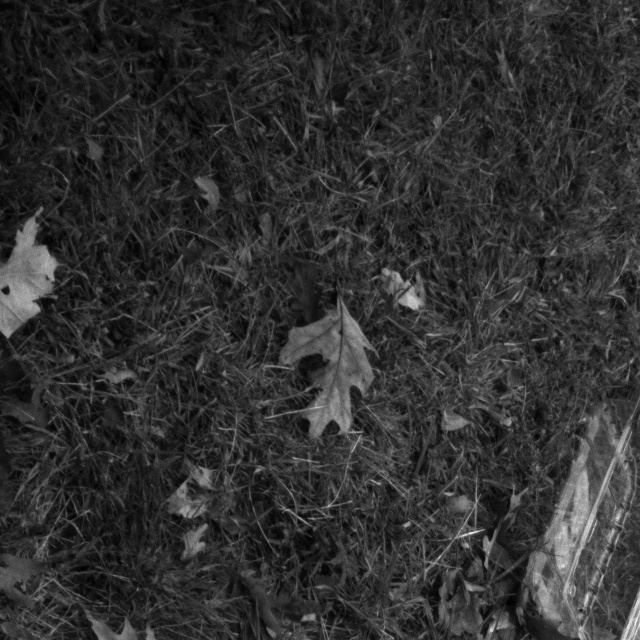container: (493, 394, 640, 640)
